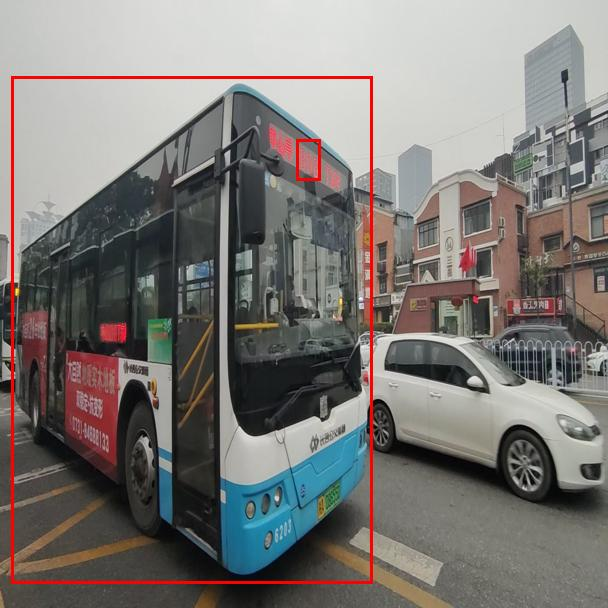bus: (11, 76, 372, 583)
screen: (296, 139, 320, 180)
